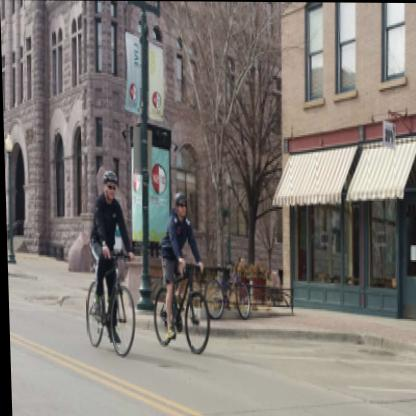With Helmet: (170, 188, 189, 223), (101, 165, 120, 198)
